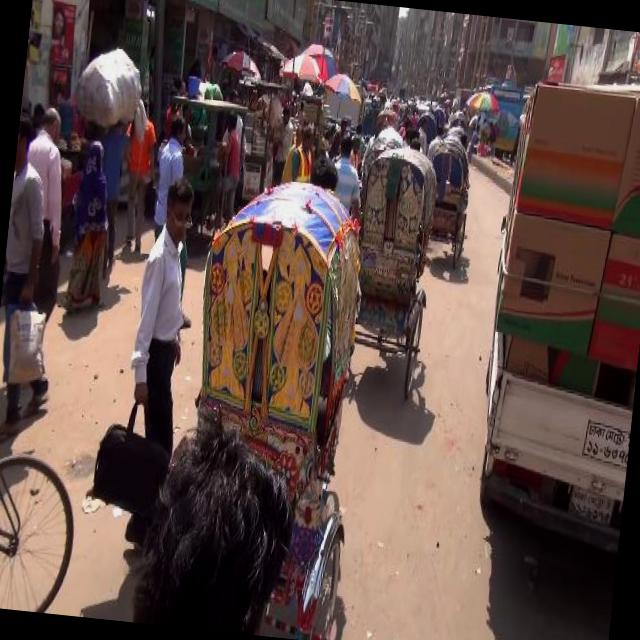bus: (481, 78, 525, 164)
motorcycle: (159, 165, 389, 640), (338, 142, 446, 404), (418, 130, 476, 278), (428, 105, 446, 132)
truck: (463, 69, 640, 562)
